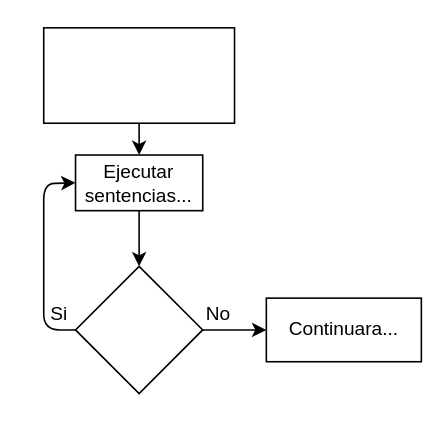
Some shapes in this 448 by 421 pixel diagram are drawn without their labels. The centre of each missing label's shape, as x and y in pixels:
Operaciones previas: the point at 138,74
¿cumple condición?: the point at 138,329
